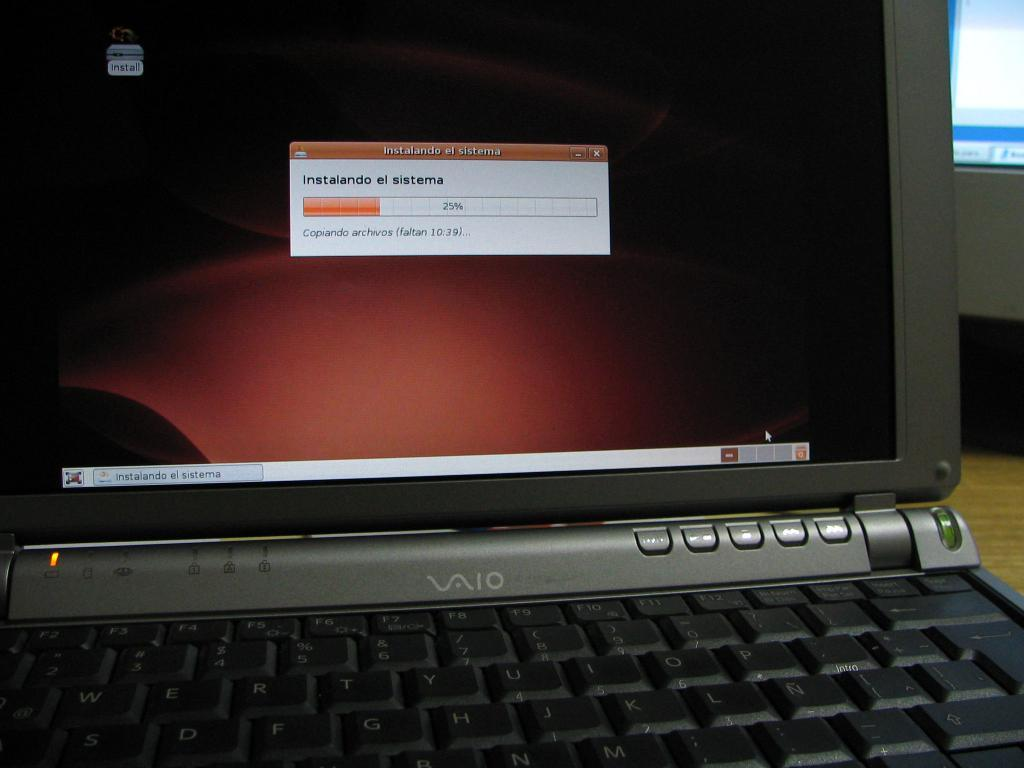Computer-keyboard: (0, 569, 1023, 767)
Laptop: (1, 8, 1007, 768)
